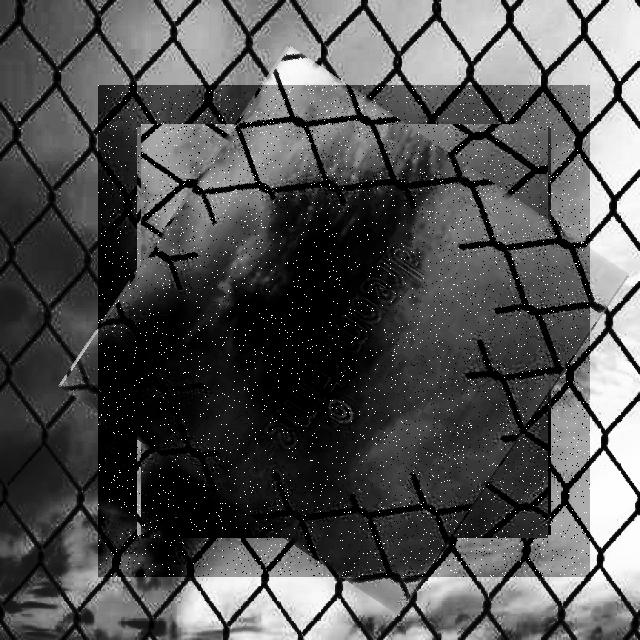anomaly-fence: (98, 85, 590, 577)
